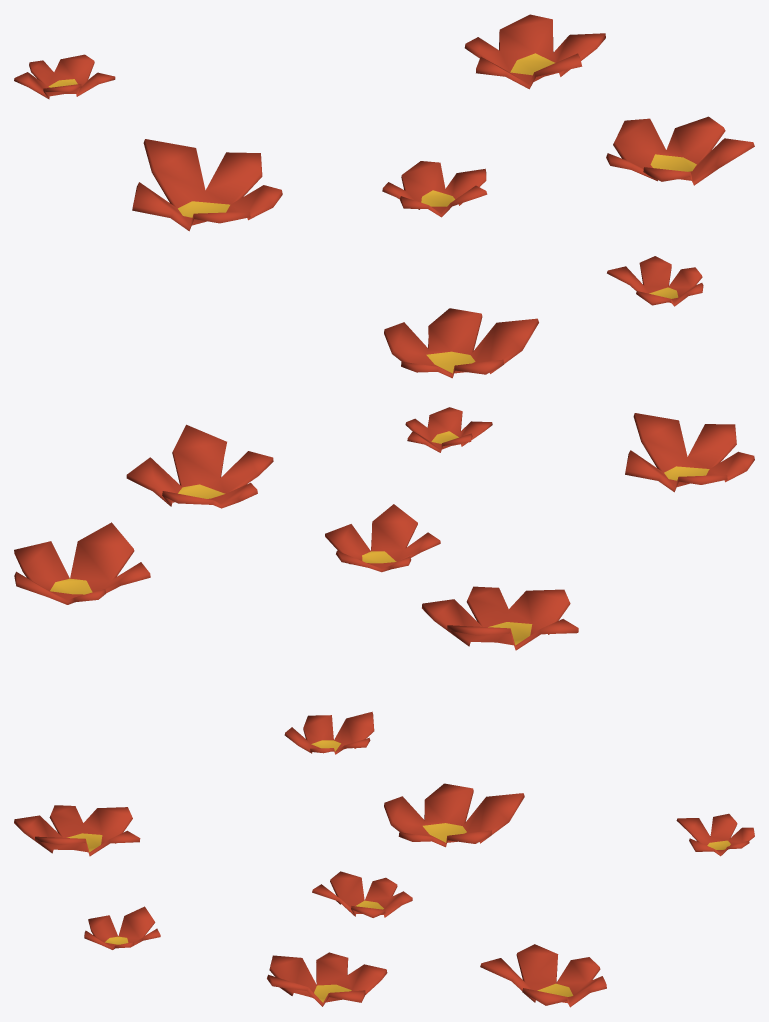
The model's file is rpgpp_ag_flowers_ground_01b 1.fbx.
3 renders of one model, top to bottom at view 1: azimuth 30°, elevation 25°; view 2: azimuth 150°, elevation 25°; view 3: azimuth 270°, elevation 25°, orthographic. The views are drawn at different scales.
Visible parts, largest first — view 1: rpgpp_ag_flowers_ground_01b; view 2: rpgpp_ag_flowers_ground_01b; view 3: rpgpp_ag_flowers_ground_01b.
Boxes of the visible parts, x1,y1,x2,y2 form: rpgpp_ag_flowers_ground_01b: (14,14,754,378); rpgpp_ag_flowers_ground_01b: (14,407,754,754); rpgpp_ag_flowers_ground_01b: (14,783,754,1007).
Bounding box in the file's own units: 1.67 × 0.1439 × 2.41.
